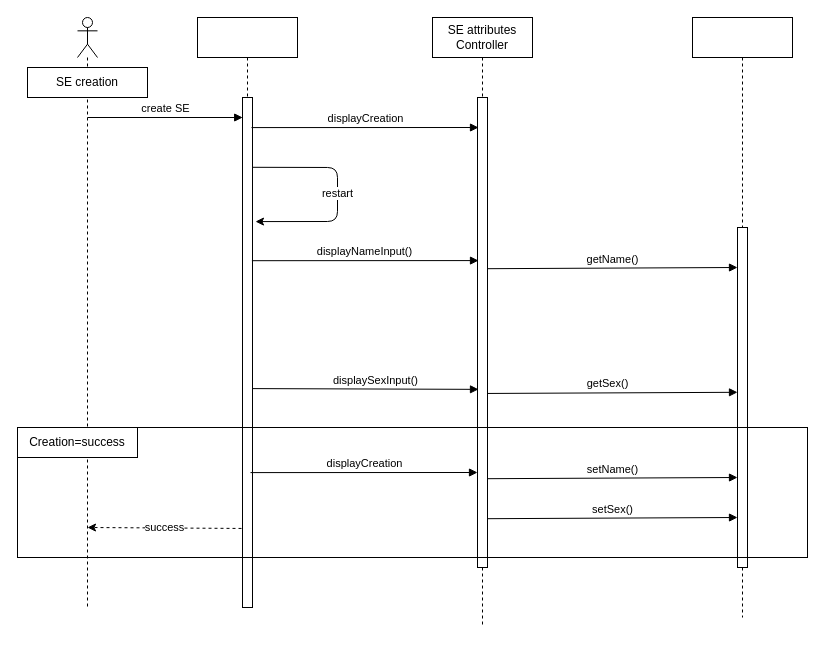
Some shapes in this 825 by 645 pixel diagram are drawn without their labels. Each missing label, with the box of its shape:
SE Attributes: (692, 16, 792, 618)
SE creation UI: (196, 16, 298, 608)
